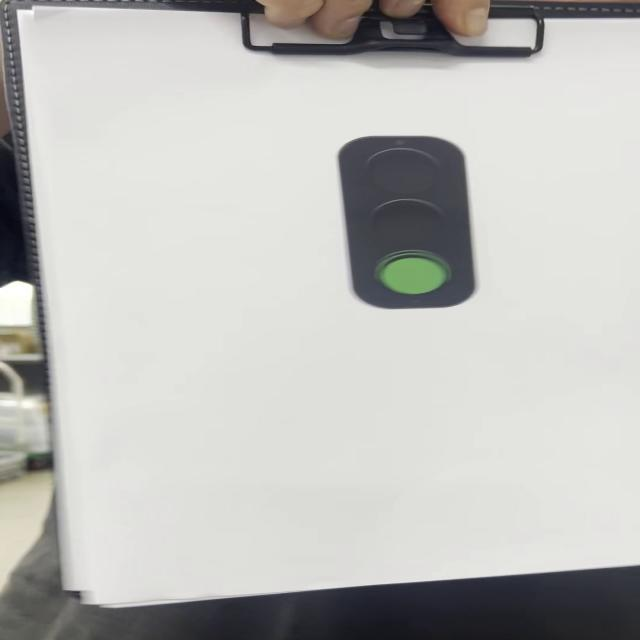green: (339, 133, 478, 311)
